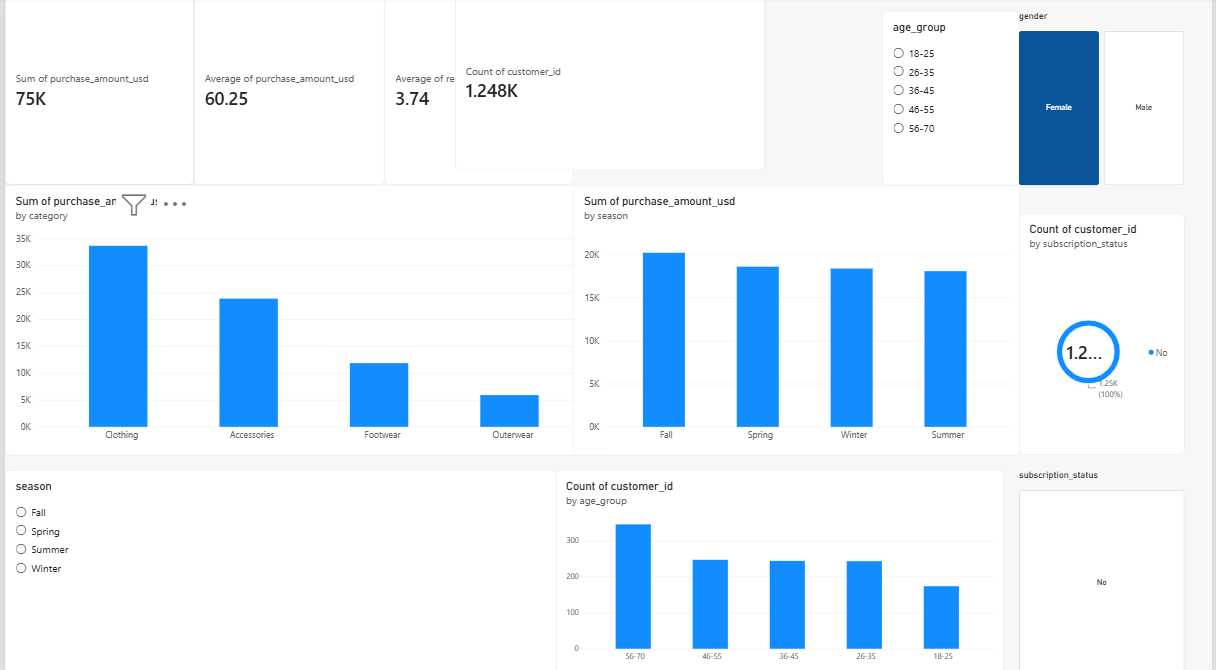

The page's visual inventory and layout, read from the dashboard file:
{"tool":"powerbi","page":{"name":"Page 1","canvas":[1920,1080],"ordinal":0},"visuals":[{"type":"clusteredColumnChart","fields":{"Category":["shopping_trends_clean.category"],"Y":["Sum(shopping_trends_clean.purchase_amount_usd)"]},"box":[0,300,960,430],"z":0},{"type":"cardVisual","fields":{"Data":["Sum(shopping_trends_clean.purchase_amount_usd)"]},"box":[0,0,300,300],"z":1000},{"type":"cardVisual","fields":{"Data":["Avg(shopping_trends_clean.purchase_amount_usd)"]},"box":[300,0,303.3,300],"z":2000},{"type":"cardVisual","fields":{"Data":["Avg(shopping_trends_clean.review_rating)"]},"box":[603.3,0,300,300],"z":3000},{"type":"cardVisual","fields":{"Data":["CountNonNull(shopping_trends_clean.customer_id)"]},"box":[715,0,493.3,276.7],"z":4000},{"type":"clusteredColumnChart","fields":{"Category":["shopping_trends_clean.season"],"Y":["Sum(shopping_trends_clean.purchase_amount_usd)"]},"box":[903.3,300,710,430],"z":5000},{"type":"donutChart","fields":{"Category":["shopping_trends_clean.subscription_status"],"Y":["CountNonNull(shopping_trends_clean.customer_id)"]},"box":[1613.3,346.7,263.3,383.3],"z":6000},{"type":"clusteredColumnChart","fields":{"Category":["shopping_trends_clean.age_group"],"Y":["CountNonNull(shopping_trends_clean.customer_id)"]},"box":[876.7,753.3,713.3,326.7],"z":7000},{"type":"listSlicer","fields":{"Values":["shopping_trends_clean.age_group"]},"box":[1396,23,217,277],"z":8000},{"type":"advancedSlicerVisual","fields":{"Values":["shopping_trends_clean.gender"]},"box":[1613,23,263,277],"z":9000},{"type":"listSlicer","fields":{"Values":["shopping_trends_clean.season"]},"box":[0,753,877,327],"z":10000},{"type":"advancedSlicerVisual","fields":{"Values":["shopping_trends_clean.subscription_status"]},"box":[1613,753,263,327],"z":11000},{"type":"textbox","box":[100,100,300,300],"z":20000}]}

Visuals, with their boxes in screenshot pixels (x1, y1, x2, y2), scaled from the page's 1920x1080 canvas onto the 1216x670 screenshot:
clusteredColumnChart - shopping_trends_clean.category x Sum(shopping_trends_clean.purchase_amount_usd): [x1=0, y1=186, x2=608, y2=453]
cardVisual - Sum(shopping_trends_clean.purchase_amount_usd): [x1=0, y1=0, x2=190, y2=186]
cardVisual - Avg(shopping_trends_clean.purchase_amount_usd): [x1=190, y1=0, x2=382, y2=186]
cardVisual - Avg(shopping_trends_clean.review_rating): [x1=382, y1=0, x2=572, y2=186]
cardVisual - CountNonNull(shopping_trends_clean.customer_id): [x1=453, y1=0, x2=765, y2=172]
clusteredColumnChart - shopping_trends_clean.season x Sum(shopping_trends_clean.purchase_amount_usd): [x1=572, y1=186, x2=1022, y2=453]
donutChart - shopping_trends_clean.subscription_status x CountNonNull(shopping_trends_clean.customer_id): [x1=1022, y1=215, x2=1189, y2=453]
clusteredColumnChart - shopping_trends_clean.age_group x CountNonNull(shopping_trends_clean.customer_id): [x1=555, y1=467, x2=1007, y2=669]
listSlicer - shopping_trends_clean.age_group: [x1=884, y1=14, x2=1022, y2=186]
advancedSlicerVisual - shopping_trends_clean.gender: [x1=1022, y1=14, x2=1188, y2=186]
listSlicer - shopping_trends_clean.season: [x1=0, y1=467, x2=555, y2=669]
advancedSlicerVisual - shopping_trends_clean.subscription_status: [x1=1022, y1=467, x2=1188, y2=669]
textbox: [x1=63, y1=62, x2=253, y2=248]
